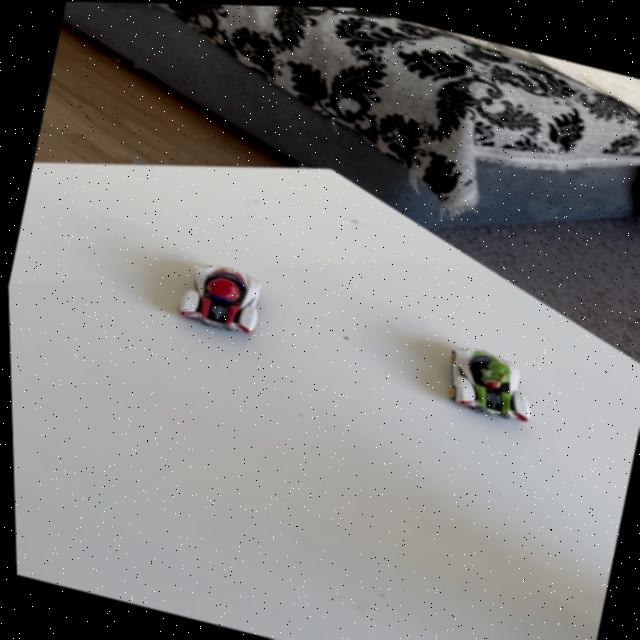mario: (147, 236, 288, 352)
yoshi: (413, 326, 550, 436)
